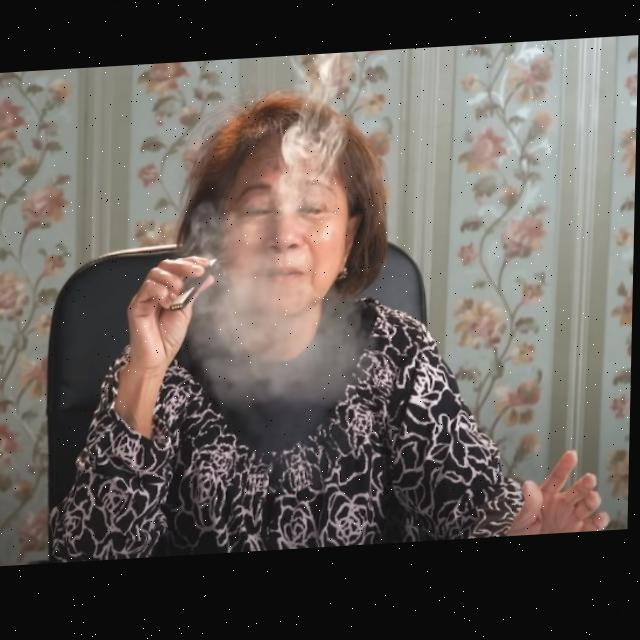vape: (170, 262, 220, 315)
